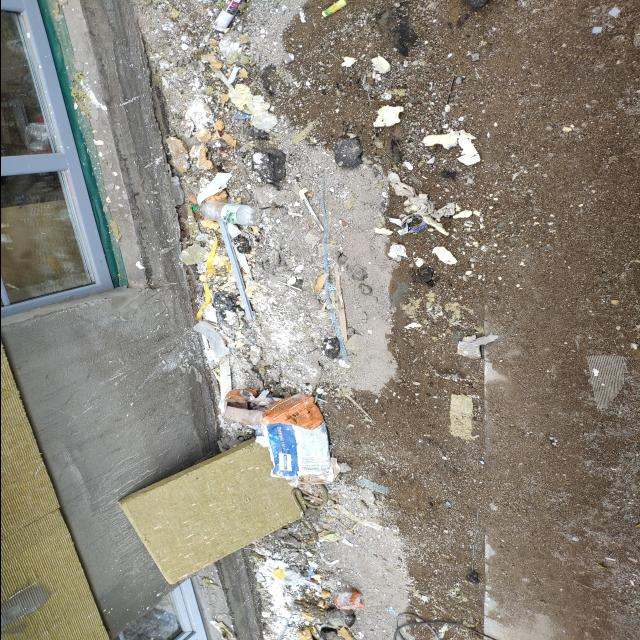entulho: (117, 436, 297, 594)
lixo domiciliar: (194, 201, 253, 225), (192, 321, 226, 357), (196, 173, 230, 204), (213, 2, 245, 33), (320, 340, 352, 368), (252, 182, 282, 206), (335, 592, 361, 609), (318, 2, 348, 16), (232, 110, 251, 120), (412, 222, 426, 234), (271, 568, 283, 578)
